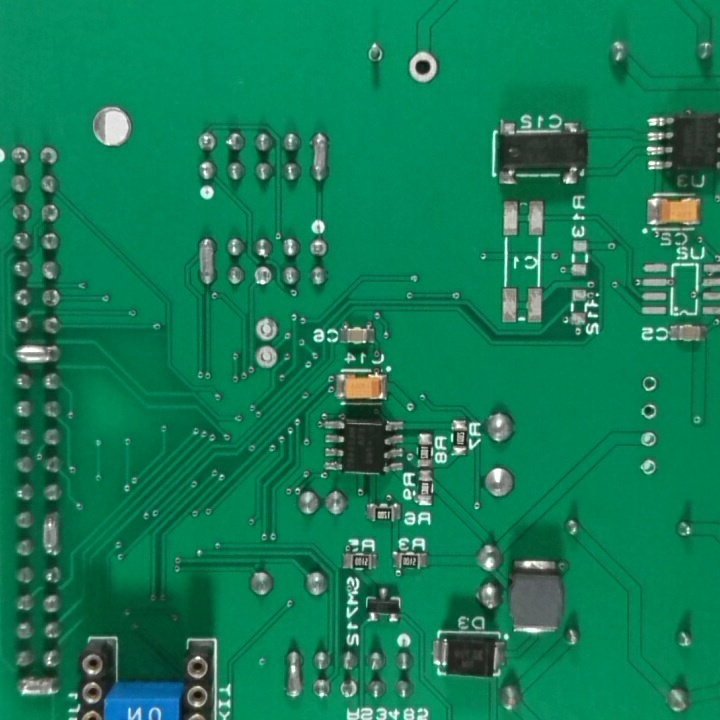F: (406, 46, 441, 86), (250, 313, 281, 344), (253, 341, 280, 374), (361, 38, 390, 66), (251, 263, 276, 289), (637, 372, 661, 398), (196, 128, 219, 155), (10, 203, 33, 229), (9, 145, 33, 168), (39, 285, 61, 309), (307, 238, 330, 260), (338, 676, 359, 700), (638, 458, 659, 480), (639, 401, 660, 423), (638, 429, 658, 452)
P: (6, 341, 66, 369), (38, 503, 66, 561), (309, 127, 331, 189), (196, 231, 219, 289), (13, 677, 66, 702), (284, 646, 306, 704)
